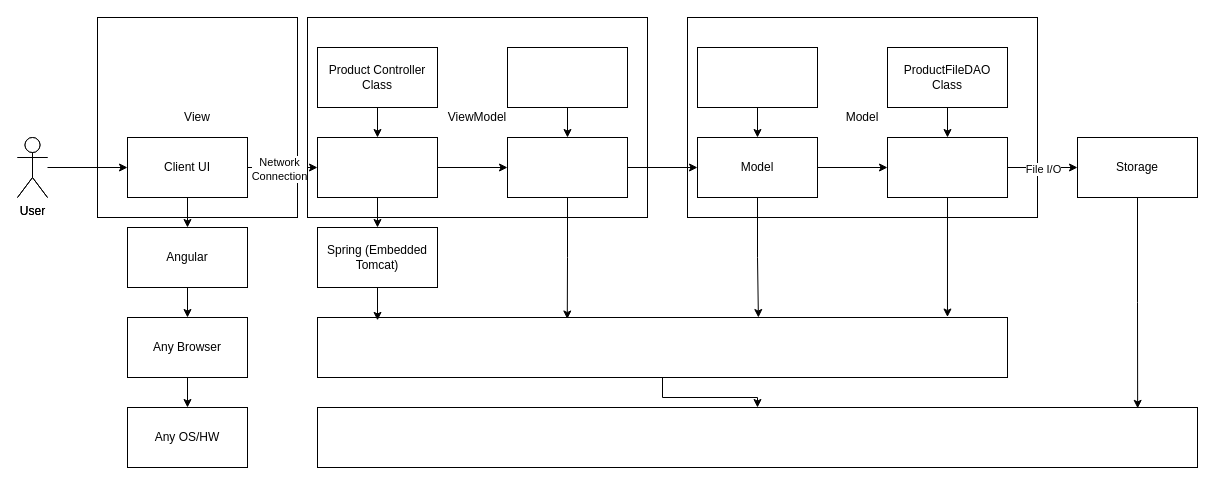
Some shapes in this 1215 by 485 pixel diagram are drawn without their labels. Each missing label, with the centre of its shape:
Any OS and HW: point (757, 437)
Java: point (662, 347)
Persistence: point (947, 167)
Product Class: point (757, 77)
ProductDAO Class: point (567, 77)
REST API (Controller): point (377, 167)
Service: point (567, 167)
